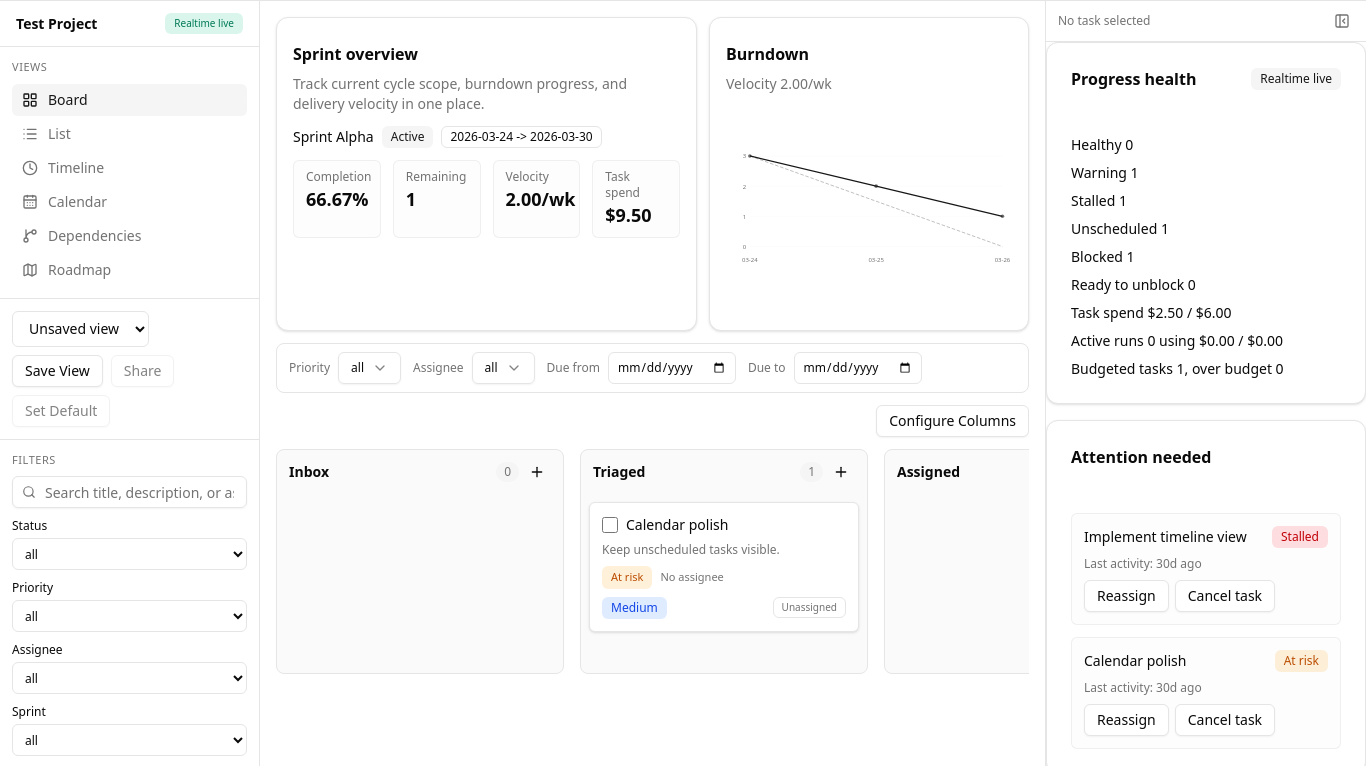
Scenario: ProjectTaskWorkspace › navigates between calendar months while preserving the visible date grid
Step 1. Click the button "Calendar" → (130, 202), box left=12, top=186, right=247, bottom=218
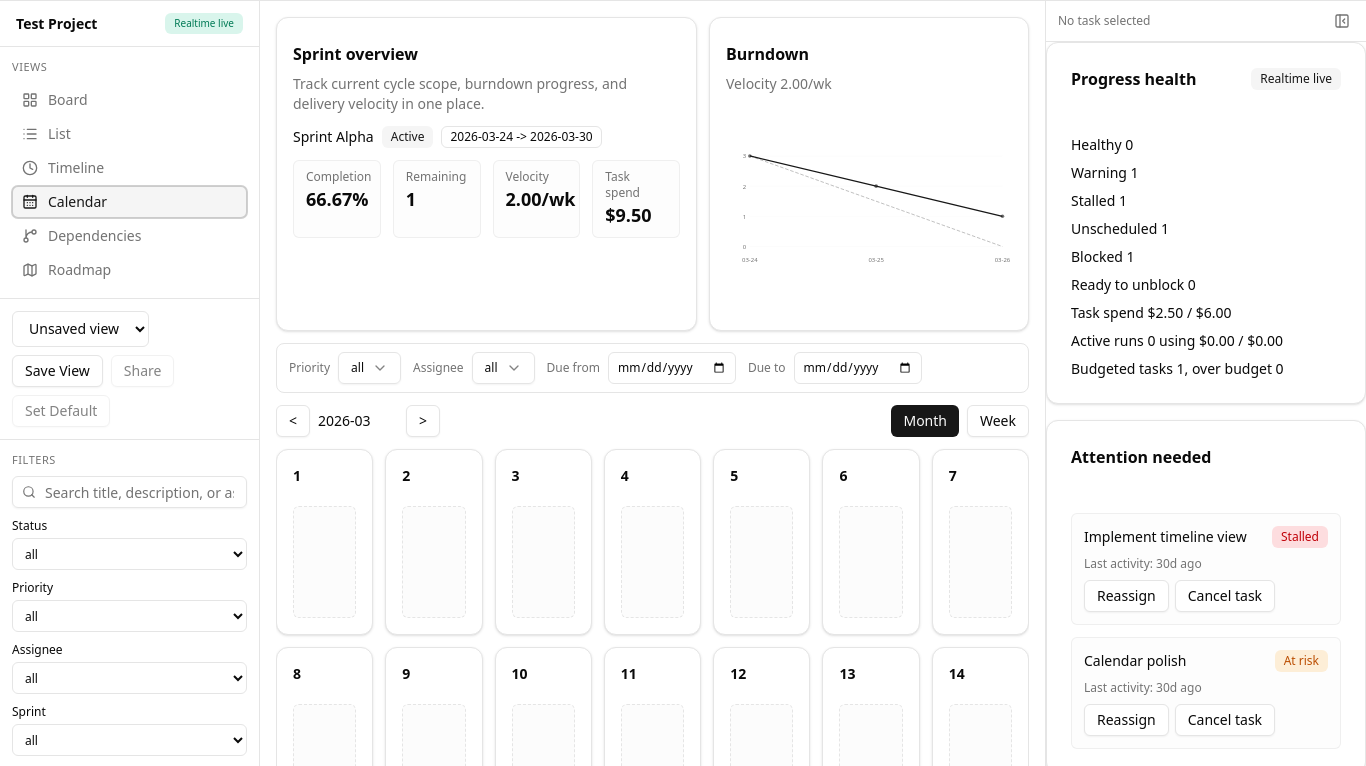
Expected: the text with test id "calendar-period-label" reads "2026-03", left=318, top=411, right=371, bottom=430
Step 2. Click the button named "Next month" → (423, 421), box left=406, top=405, right=440, bottom=437
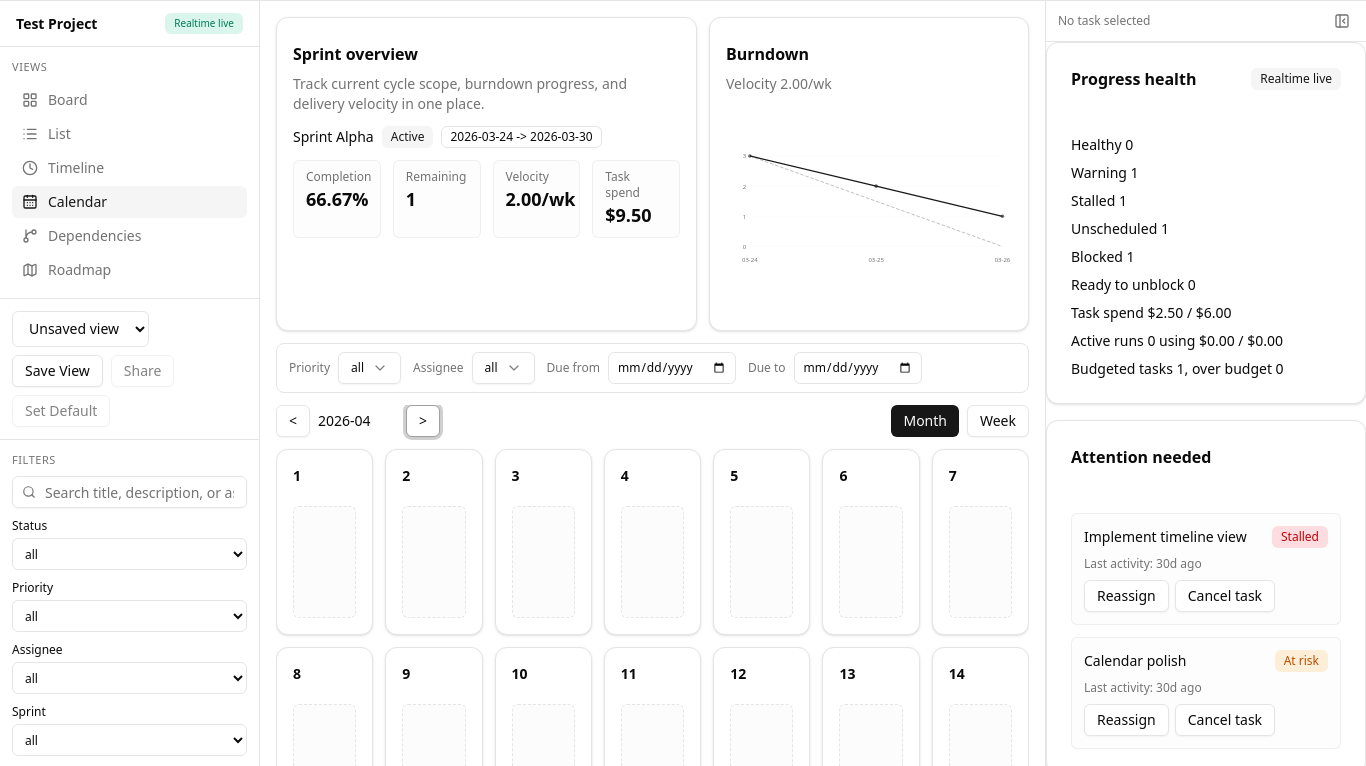
Expected: the text with test id "calendar-period-label" reads "2026-04", left=318, top=411, right=371, bottom=430
Step 3. Click the button named "Previous month" → (293, 421), box left=276, top=405, right=310, bottom=437
(page scrolled)
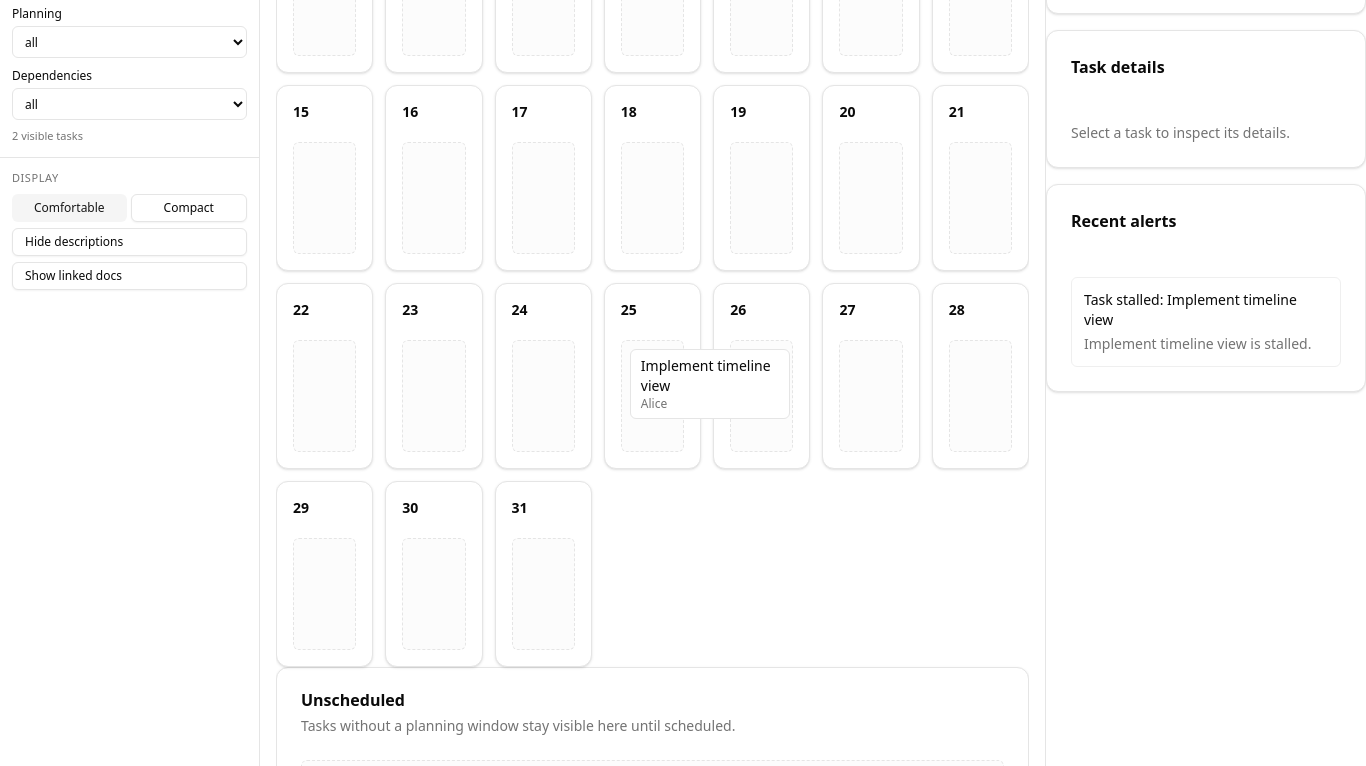
Expected: the button with test id "calendar-bar-task-1" is shown, left=630, top=349, right=790, bottom=419
